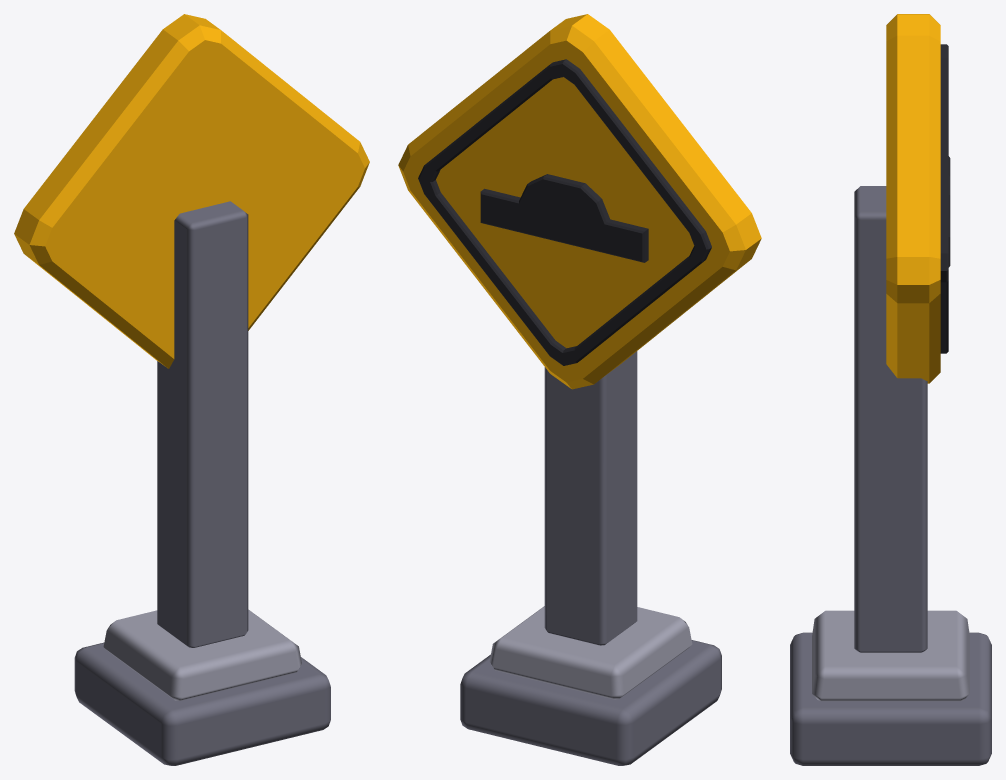
File: BumpSign.glb
3 renders of one model, left to right at view 1: azimuth 30°, elevation 25°; view 2: azimuth 150°, elevation 25°; view 3: azimuth 270°, elevation 25°, orthographic. The views are drawn at different scales.
Parts seen in each view (by area): view 1: M_BumpSign_ToyYellow, M_BumpSign_Metal, M_BumpSign_Steel; view 2: M_BumpSign_ToyYellow, M_BumpSign_Metal, M_BumpSign_Tire, M_BumpSign_Steel; view 3: M_BumpSign_Metal, M_BumpSign_ToyYellow, M_BumpSign_Steel, M_BumpSign_Tire.
Part boxes in pixels (x1=…): M_BumpSign_ToyYellow: x1=14, y1=14, x2=369, y2=368; M_BumpSign_Metal: x1=74, y1=201, x2=330, y2=765; M_BumpSign_Steel: x1=103, y1=609, x2=301, y2=700; M_BumpSign_ToyYellow: x1=398, y1=14, x2=761, y2=389; M_BumpSign_Metal: x1=460, y1=351, x2=721, y2=765; M_BumpSign_Tire: x1=418, y1=59, x2=711, y2=365; M_BumpSign_Steel: x1=489, y1=606, x2=692, y2=699; M_BumpSign_Metal: x1=790, y1=186, x2=991, y2=765; M_BumpSign_ToyYellow: x1=886, y1=14, x2=940, y2=383; M_BumpSign_Steel: x1=812, y1=610, x2=969, y2=701; M_BumpSign_Tire: x1=940, y1=44, x2=950, y2=353.
Bounding box in the file's own units: 2.54 × 4.92 × 1.26.
